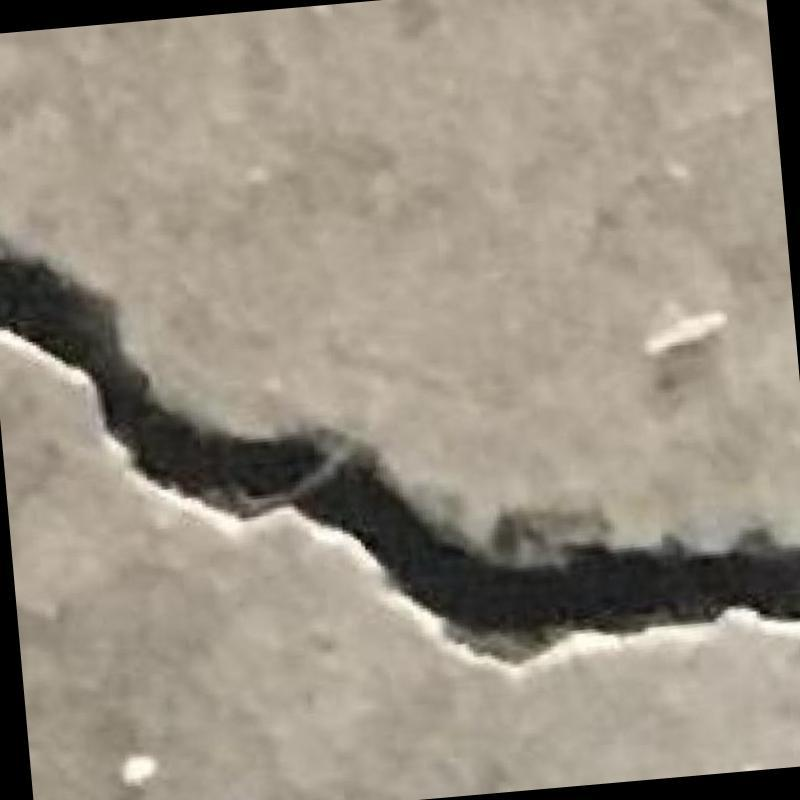pothole: (0, 240, 800, 657)
